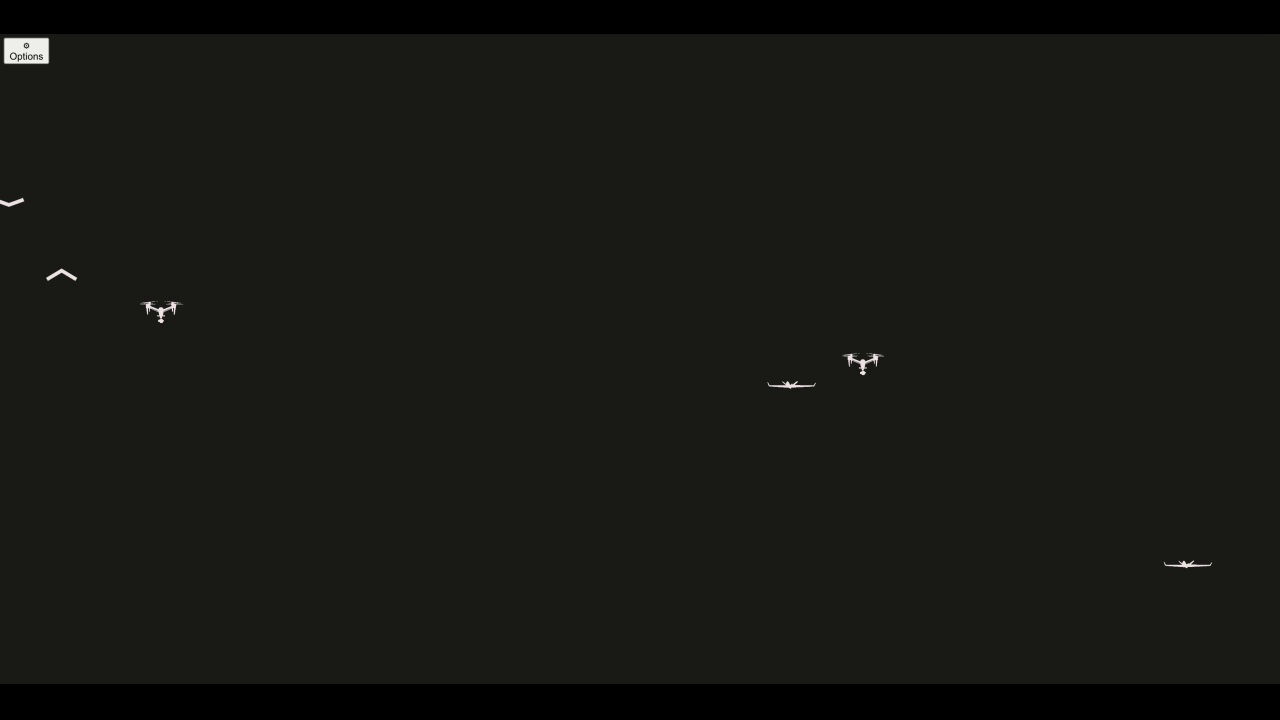Bird: (34, 254, 86, 294), (1, 184, 37, 220)
Drone: (1149, 545, 1224, 590), (756, 361, 822, 405)
Quadcopter: (128, 290, 189, 335), (831, 342, 893, 384)
